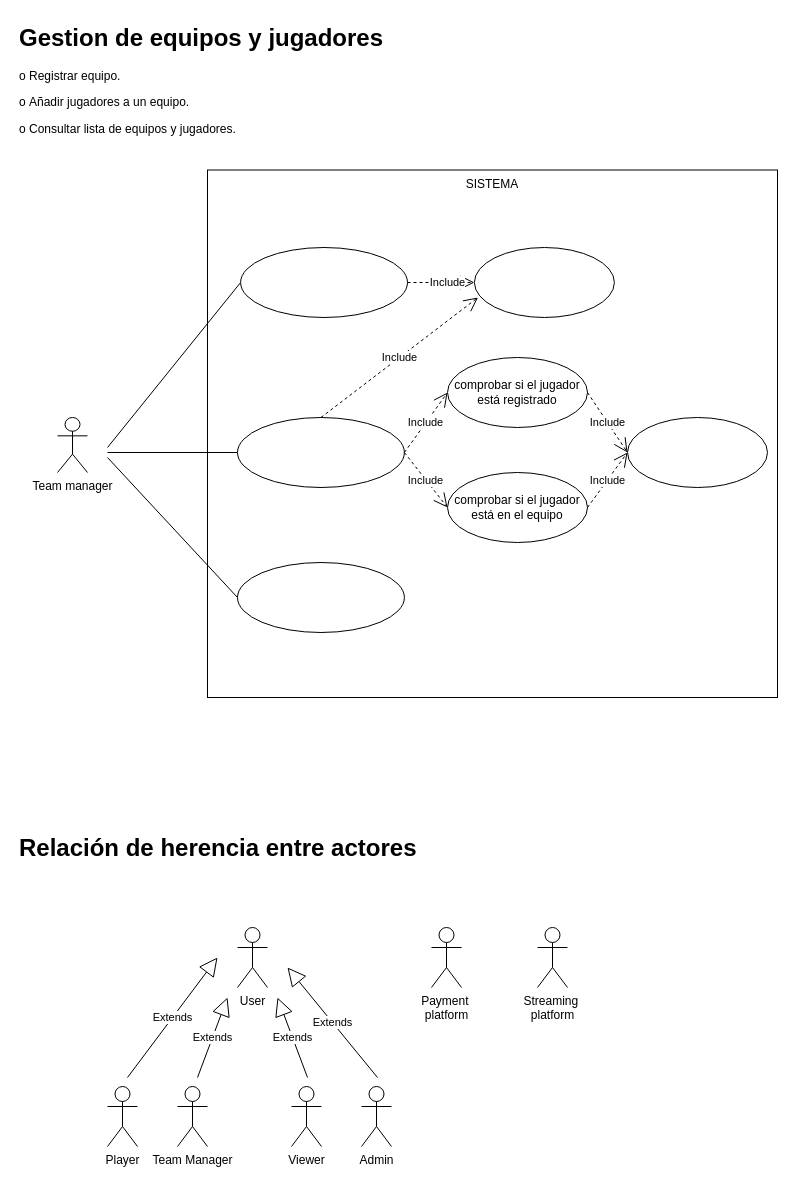
This 795x1184 diagram has some shape labels left out. The shapes that lost their labels are listed below. From the top down, each one's centre as x and y in pixels, then its label:
point (324, 282): Registrar equipo
point (543, 282): comprobar si el equipo está registrado en el sistema
point (320, 452): Añadir jugador a equipo
point (697, 452): comprobar si el deporte del jugador y el del equipo coinciden
point (320, 597): Consultar lista equipos y jugadores
